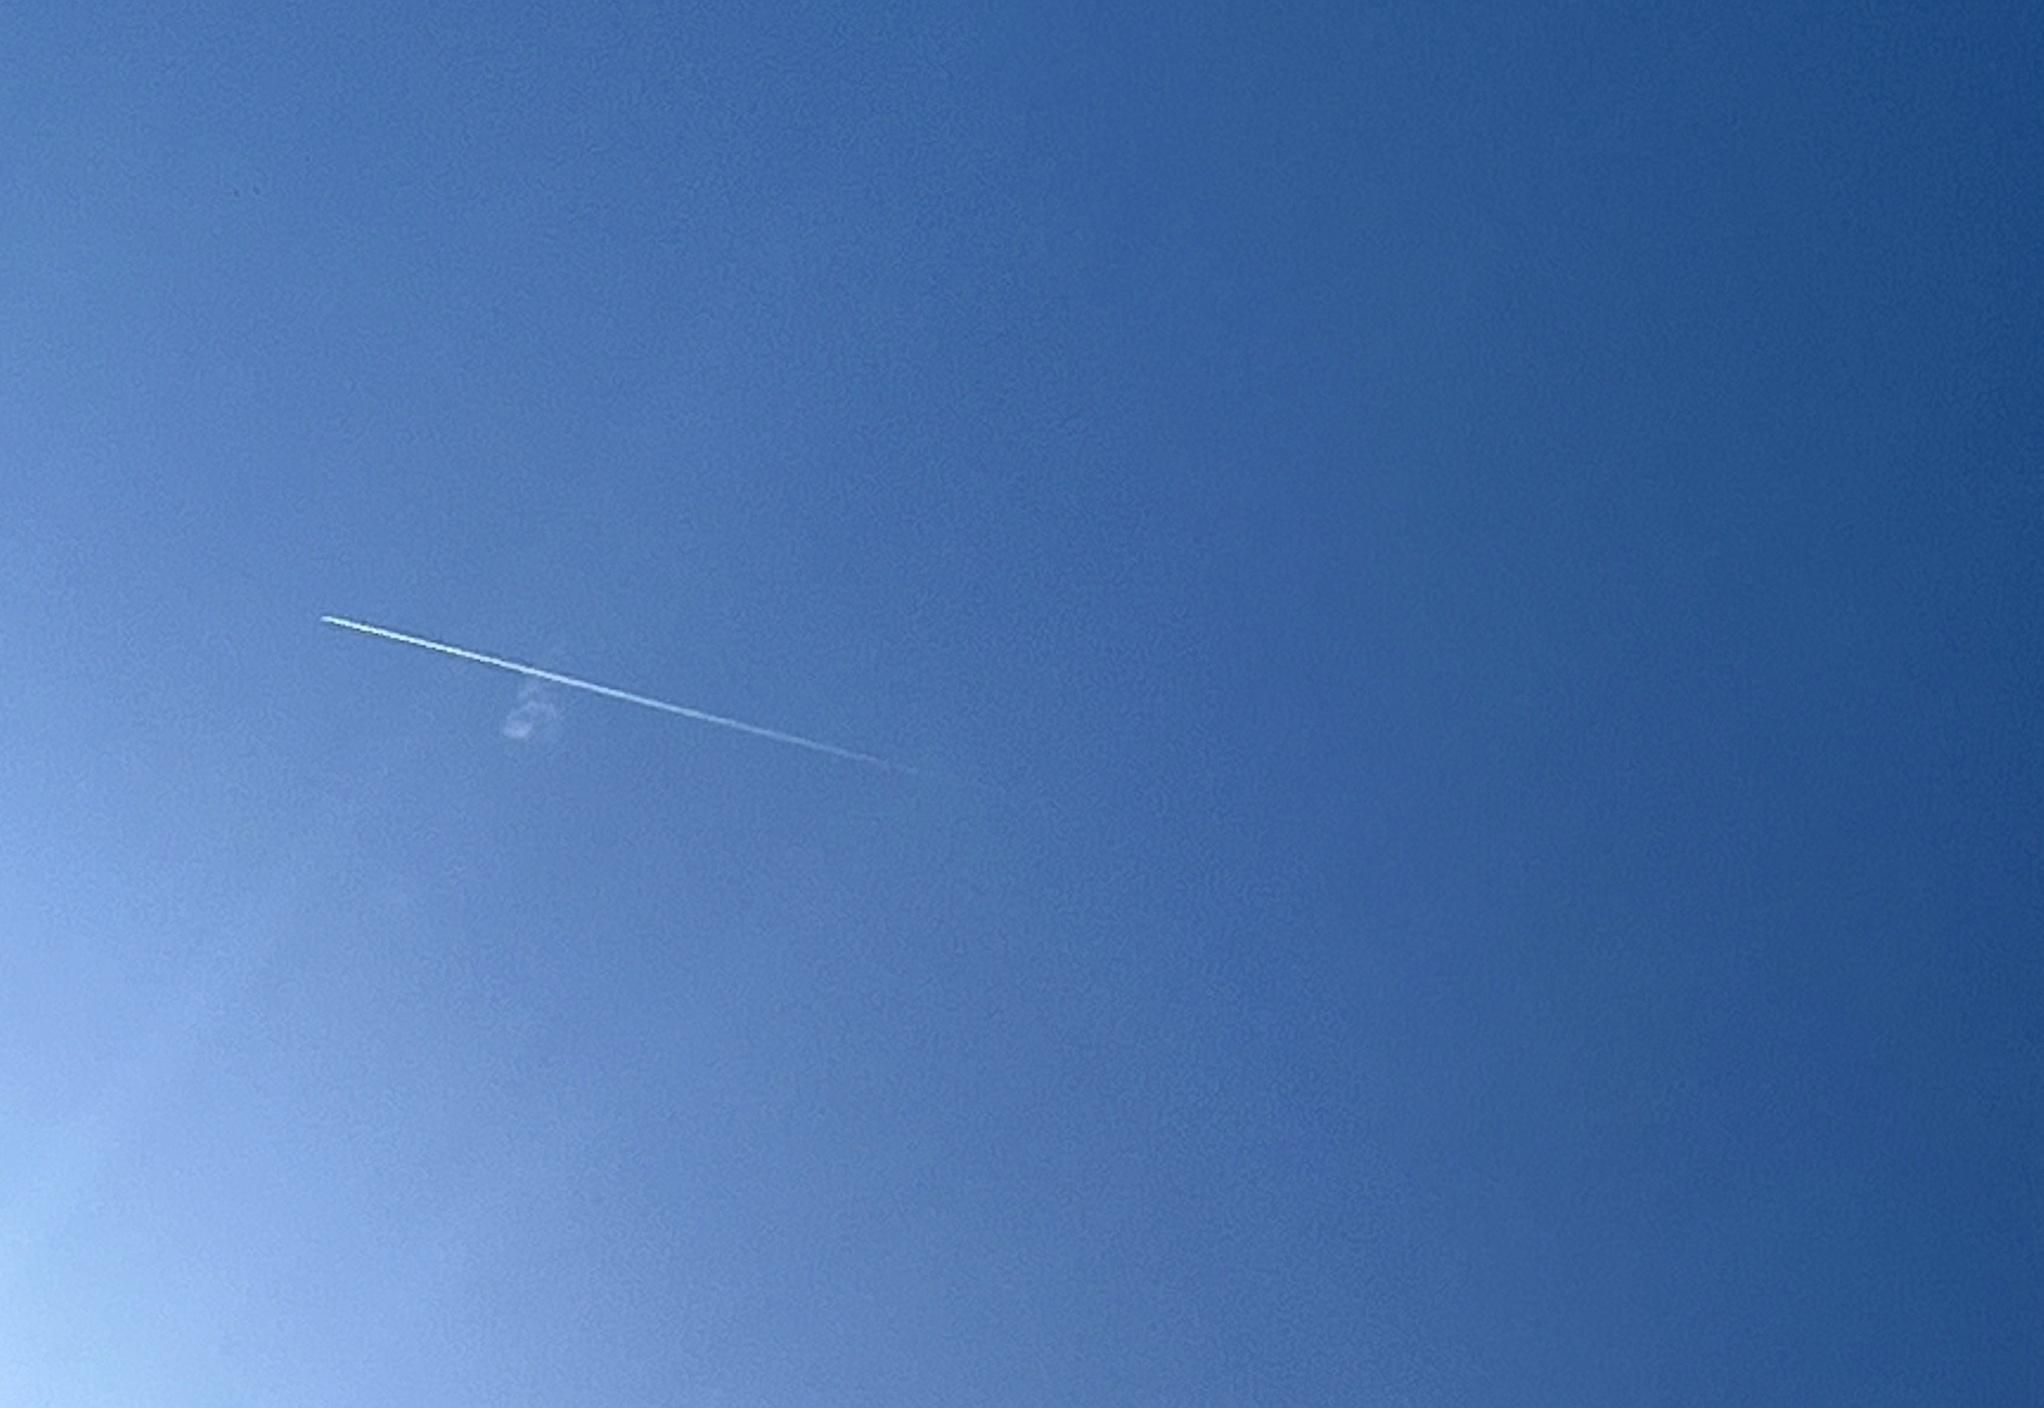Plane: (295, 591, 937, 770)
